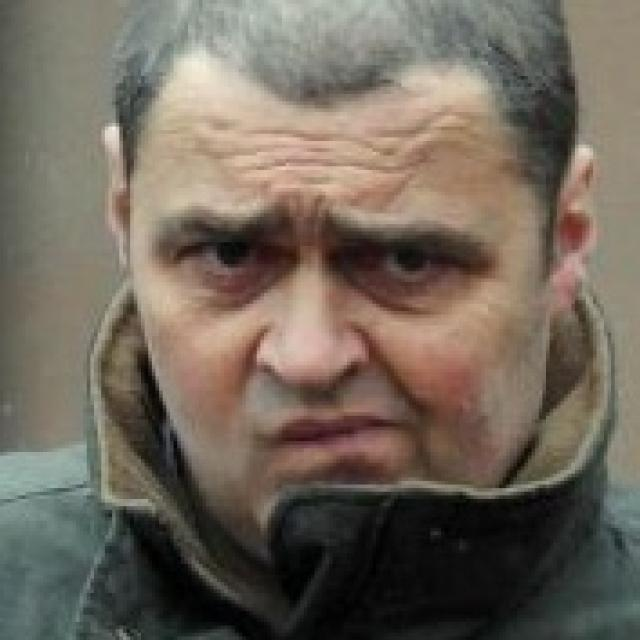Depress: (127, 43, 555, 565)
